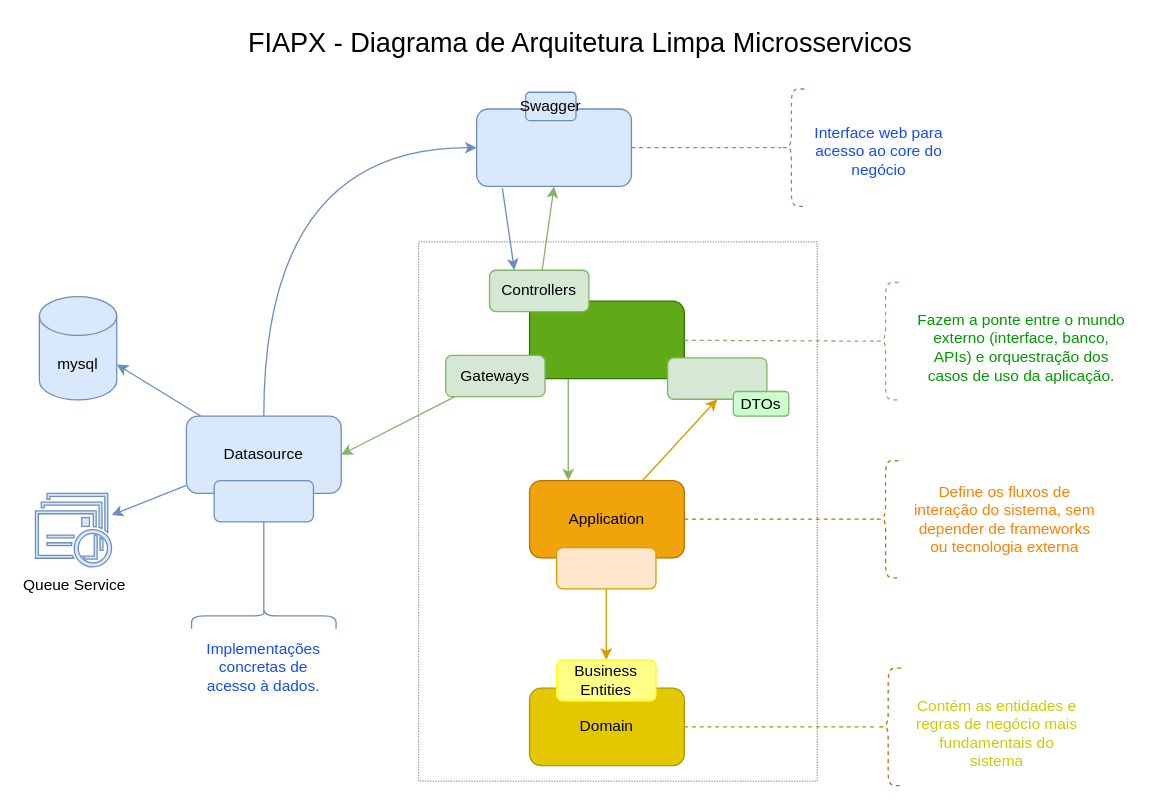
This 1151x808 diagram has some shape labels left out. Here are the shapes that lost their labels. From the top down, the centre of each, then its label:
the point at 553,147: WebAPI
the point at 606,339: Adapters
the point at 716,378: Presenters
the point at 263,500: Data Entities
the point at 605,567: Use Case
